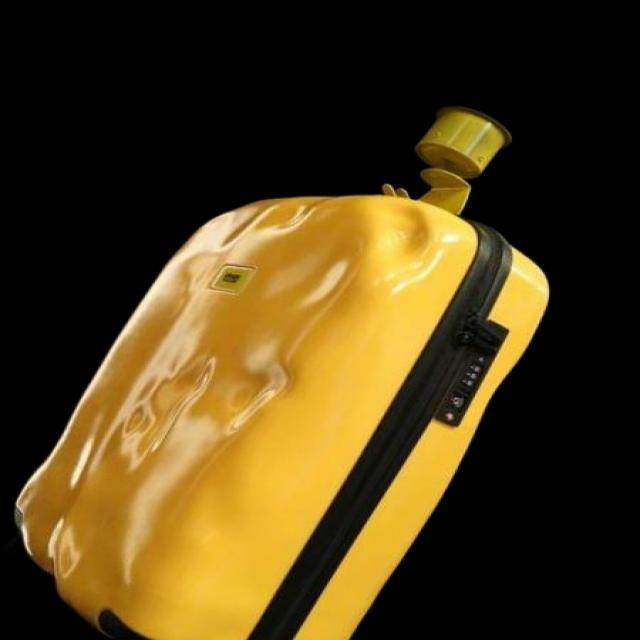Suitcase: (23, 87, 538, 640)
